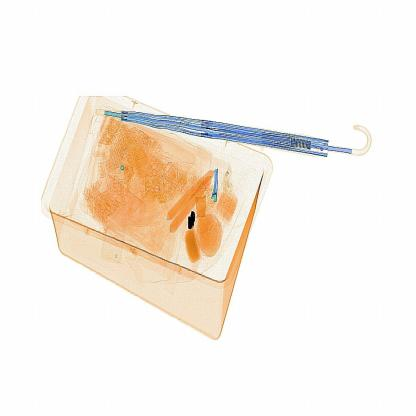knife: (178, 198, 209, 240)
